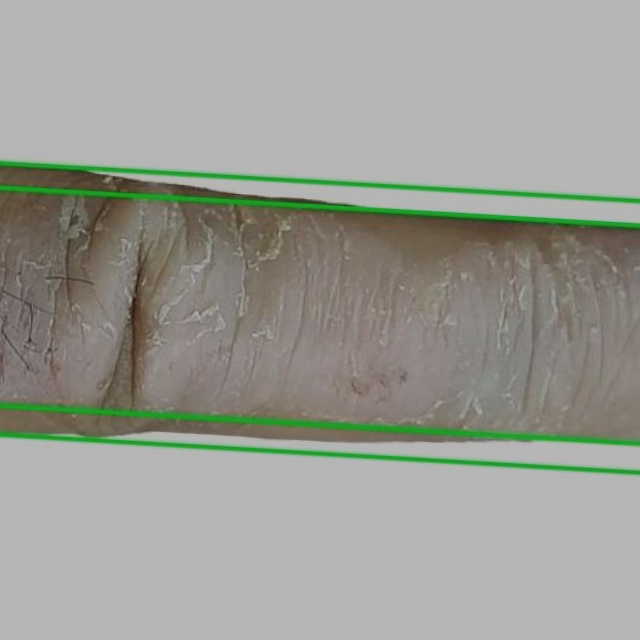Eczema: (0, 161, 639, 471), (0, 406, 639, 639), (0, 0, 639, 225)
